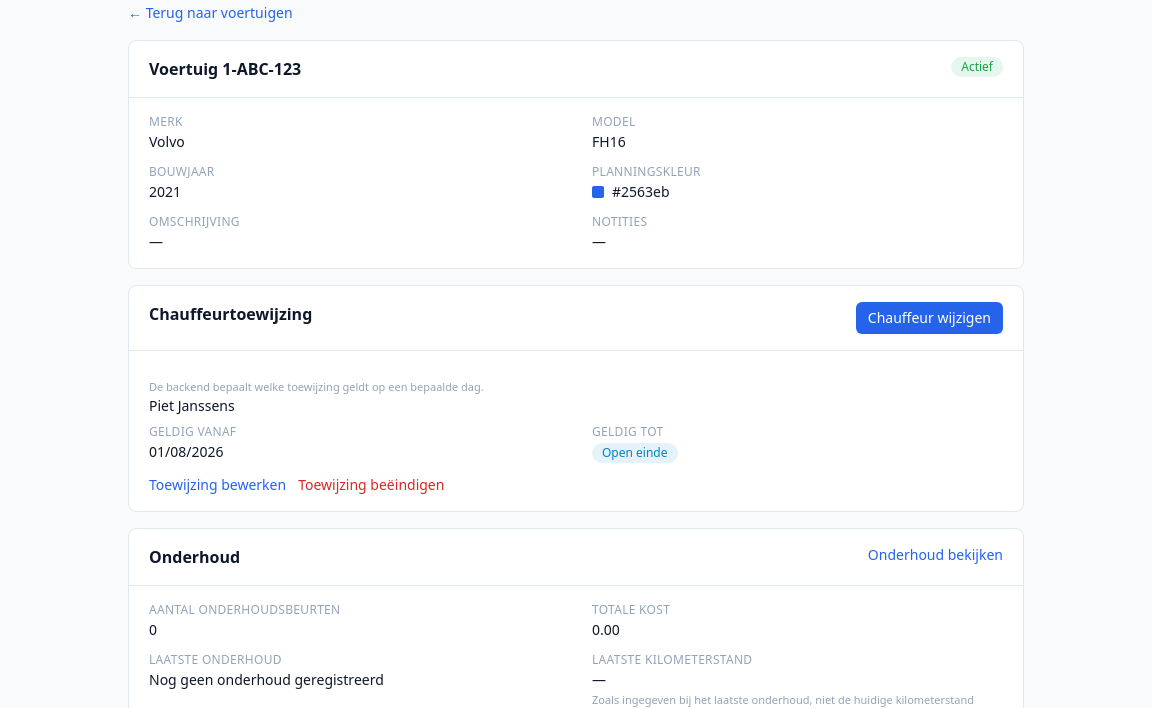
it: changing the chauffeur of a vehicle › saving it › reports success and re-reads the assignment from the backend
Click the button "Chauffeur wijzigen" at (929, 318), box x1=856 y1=302 x2=1003 y2=334
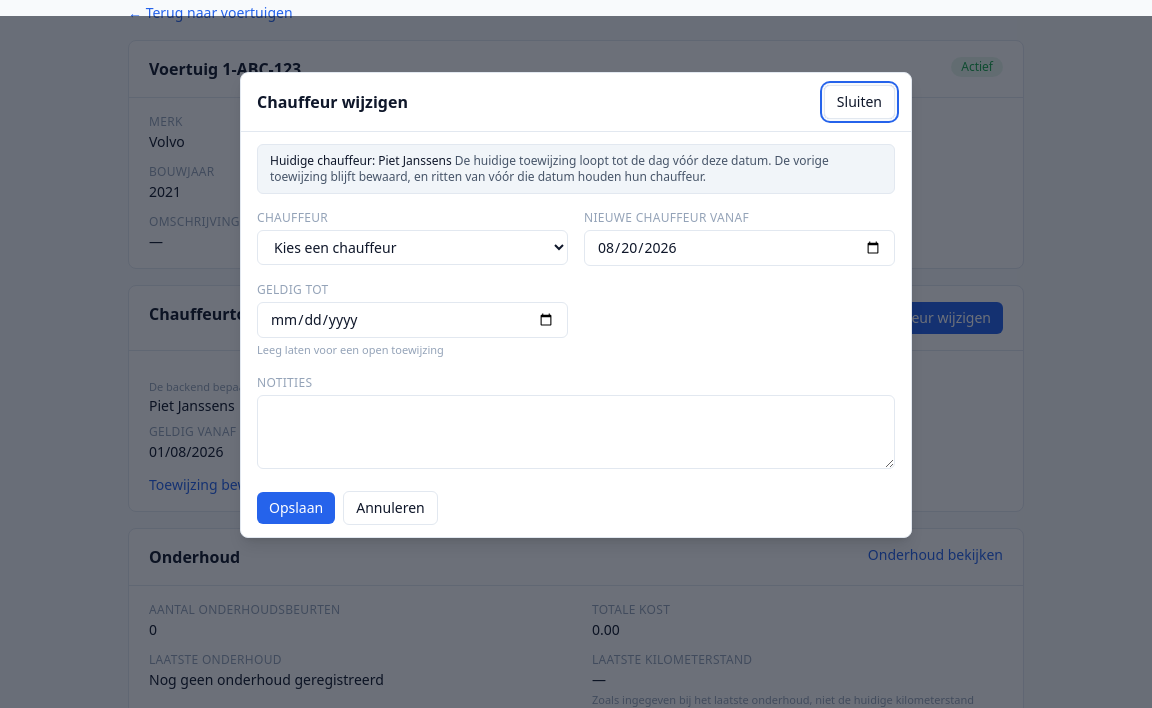
Select "Ahmet Yılmaz" in the dropdown labelled "Chauffeur" at (412, 248), box x1=257 y1=230 x2=568 y2=265
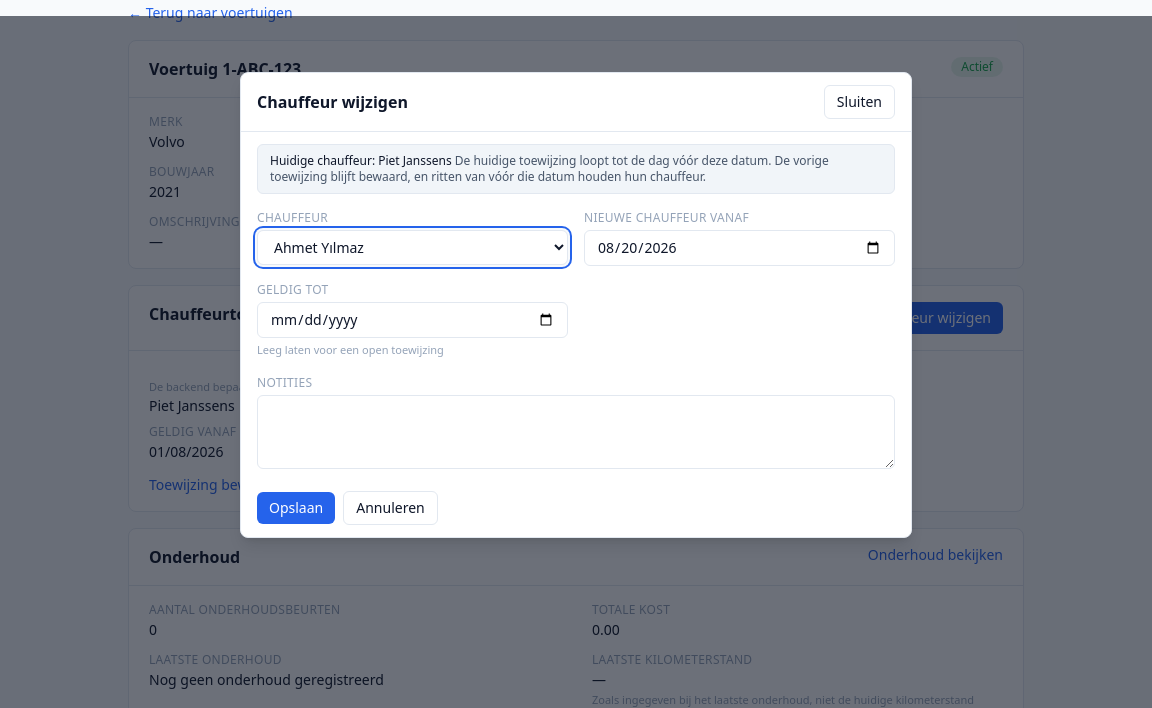
Type "2026-08-24" into the date field labelled "Nieuwe chauffeur vanaf" at (740, 248), box x1=584 y1=230 x2=895 y2=266
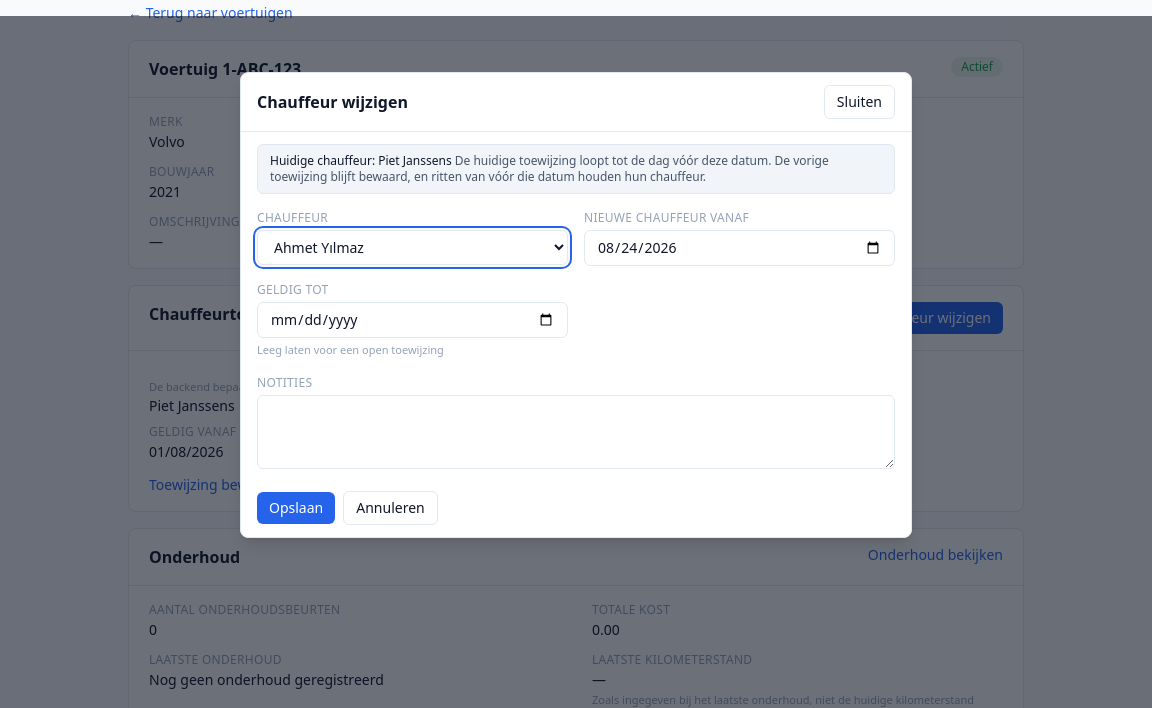
Click the button "Opslaan" at (296, 508), box x1=257 y1=492 x2=335 y2=524
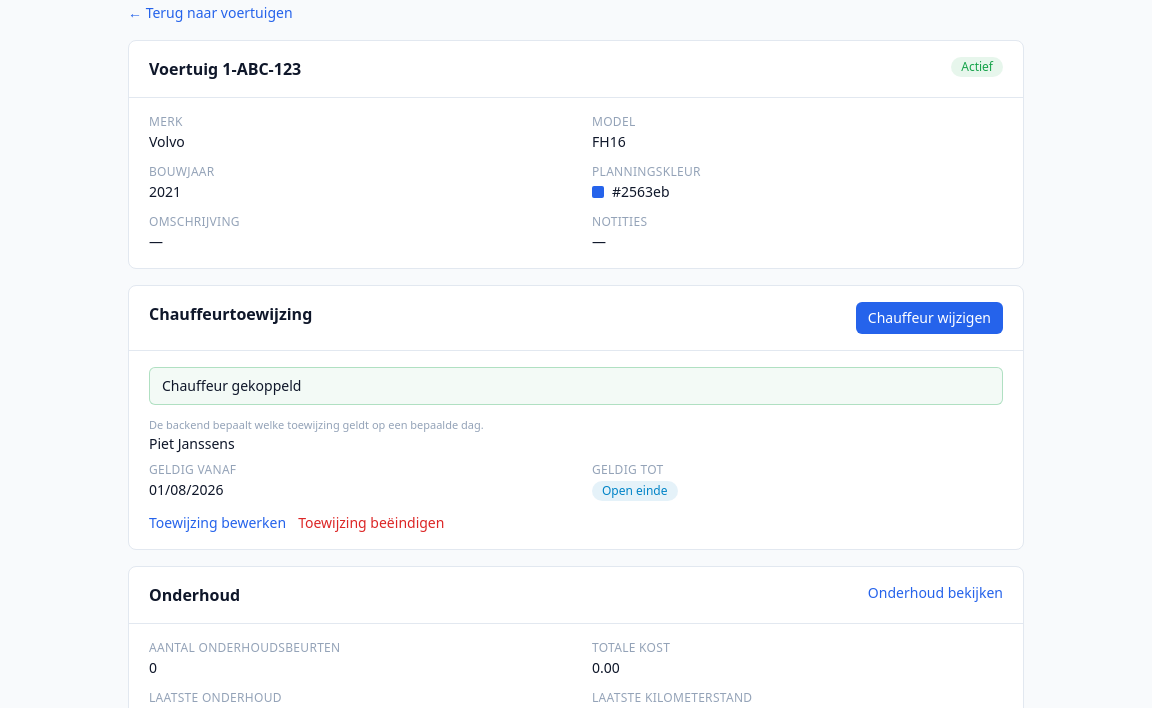
expect the text "Chauffeur gekoppeld" is shown: met, box x1=149 y1=367 x2=1003 y2=405
